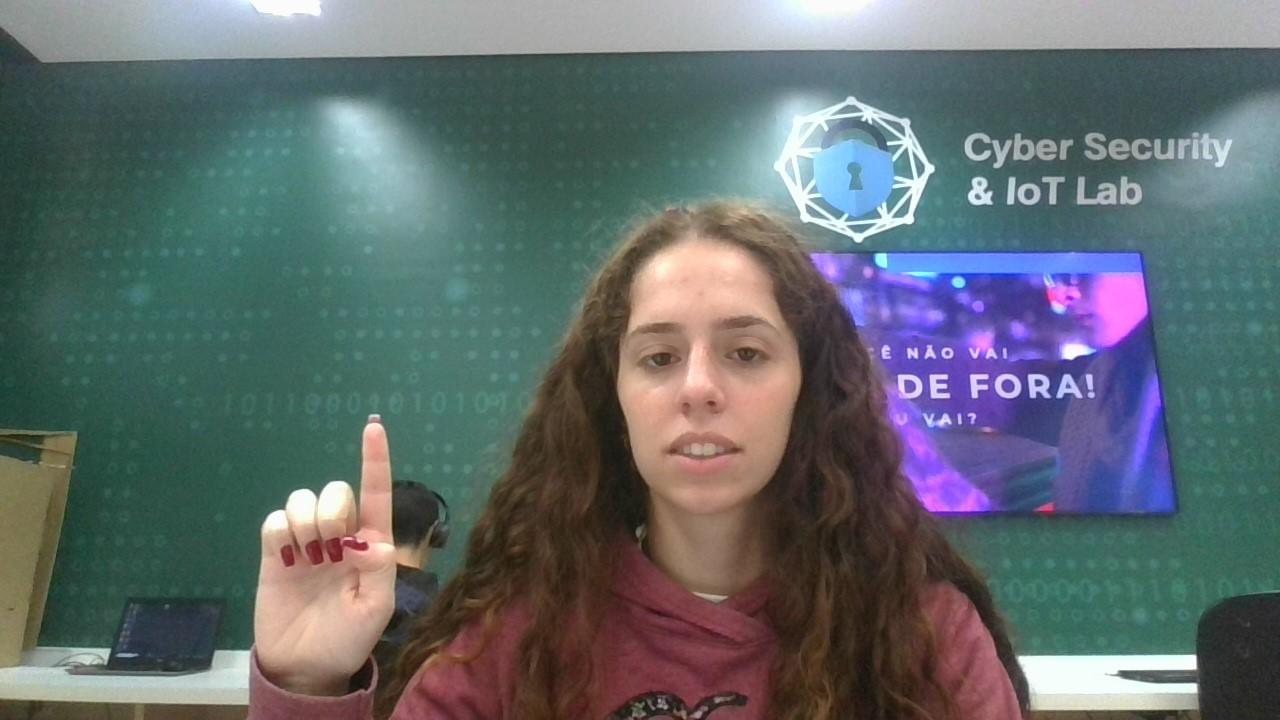D2: (235, 402, 420, 682)
